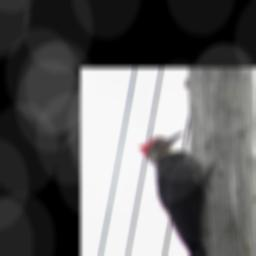Woodpecker: (137, 129, 218, 256)
